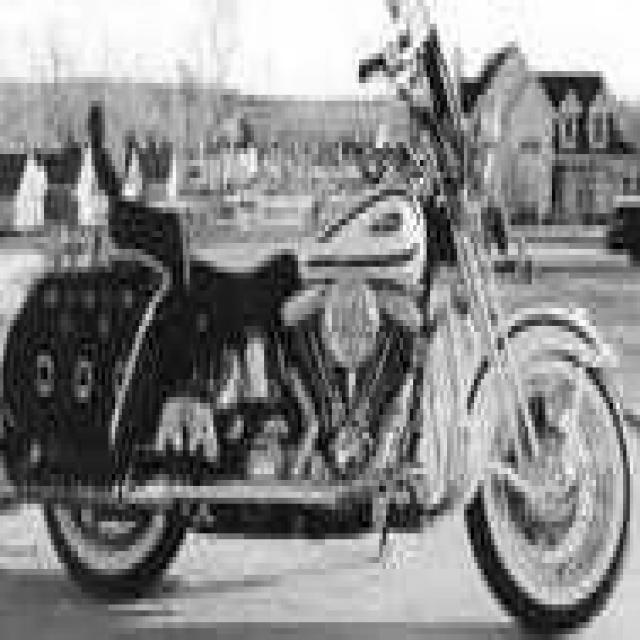Motorcycle: (0, 33, 625, 624)
